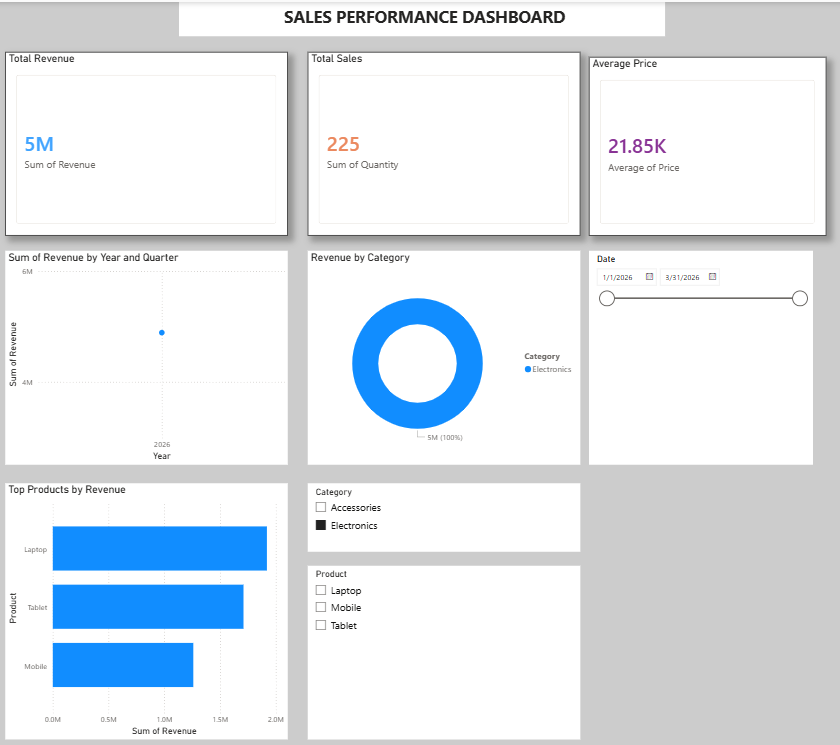

What the dashboard file says about the page in this screenshot:
{"tool":"powerbi","page":{"name":"Page 1","canvas":[1357,1202],"ordinal":0},"visuals":[{"type":"cardVisual","title":"Total Revenue","fields":{"Data":["Sum(SalesData.Revenue)"]},"box":[10.1,80.6,455.2,296.1],"z":0},{"type":"cardVisual","title":"Total Sales","fields":{"Data":["Sum(SalesData.Quantity)"]},"box":[497.5,80.6,439.1,296.1],"z":1000},{"type":"textbox","box":[289.5,0,783.5,54.9],"z":4000},{"type":"clusteredBarChart","title":"Top Products by Revenue","fields":{"Category":["SalesData.Product"],"Y":["Sum(SalesData.Revenue)"]},"box":[10.1,775.4,455.2,412.9],"z":5000},{"type":"donutChart","title":"Revenue by Category","fields":{"Category":["SalesData.Category"],"Y":["Sum(SalesData.Revenue)"]},"box":[497.5,400.8,439.1,344.4],"z":6000},{"type":"cardVisual","title":"Average Price","fields":{"Data":["Avg(SalesData.Price)"]},"box":[950.6,88.6,382.7,288],"z":7000},{"type":"slicer","fields":{"Values":["SalesData.Category"]},"box":[497.5,775.4,439.1,110.8],"z":8000},{"type":"slicer","fields":{"Values":["SalesData.Product"]},"box":[497.5,908.4,439.1,280],"z":9000},{"type":"slicer","fields":{"Values":["SalesData.Date"]},"box":[950.6,400.8,360.5,344.4],"z":9001},{"type":"lineChart","fields":{"Category":["SalesData.Date.Variation.Date Hierarchy.Year","SalesData.Date.Variation.Date Hierarchy.Quarter","SalesData.Date.Variation.Date Hierarchy.Month","SalesData.Date.Variation.Date Hierarchy.Day"],"Y":["Sum(SalesData.Revenue)"]},"box":[10.1,400.8,455.2,344.4],"z":9002}]}

Visuals, with their boxes in screenshot pixels (x1, y1, x2, y2), scaled from the page's 1357x1202 canvas onto the 840x745 screenshot:
"Total Revenue" cardVisual: {"left": 6, "top": 50, "right": 288, "bottom": 233}
"Total Sales" cardVisual: {"left": 308, "top": 50, "right": 580, "bottom": 233}
textbox: {"left": 179, "top": 0, "right": 664, "bottom": 34}
"Top Products by Revenue" clusteredBarChart: {"left": 6, "top": 481, "right": 288, "bottom": 737}
"Revenue by Category" donutChart: {"left": 308, "top": 248, "right": 580, "bottom": 462}
"Average Price" cardVisual: {"left": 588, "top": 55, "right": 825, "bottom": 233}
slicer - SalesData.Category: {"left": 308, "top": 481, "right": 580, "bottom": 549}
slicer - SalesData.Product: {"left": 308, "top": 563, "right": 580, "bottom": 737}
slicer - SalesData.Date: {"left": 588, "top": 248, "right": 812, "bottom": 462}
lineChart - SalesData.Date.Variation.Date Hierarchy.Year x SalesData.Date.Variation.Date Hierarchy.Quarter: {"left": 6, "top": 248, "right": 288, "bottom": 462}
